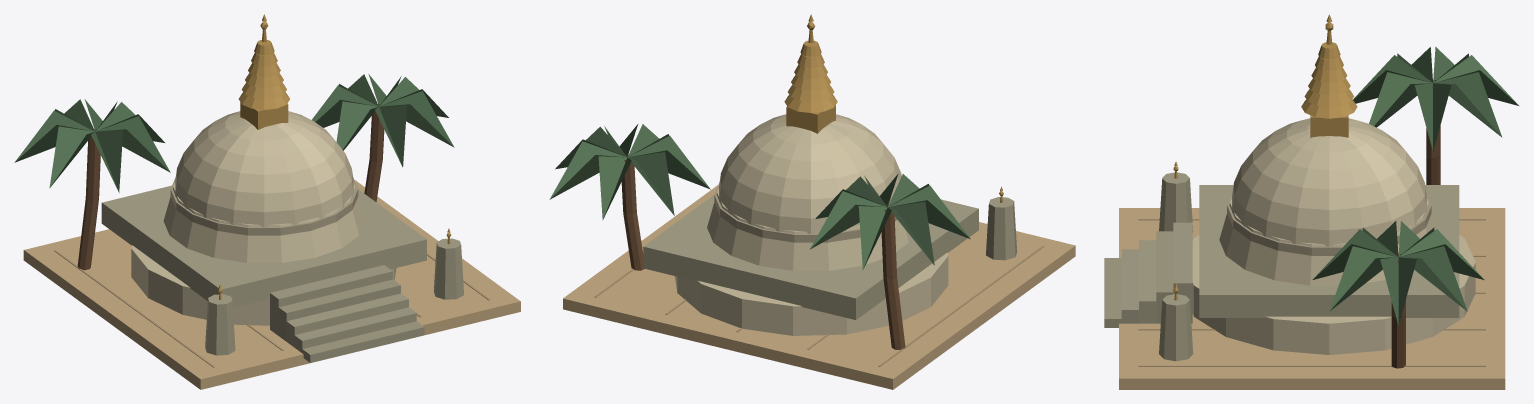
3 renders of one model, left to right at view 1: azimuth 30°, elevation 25°; view 2: azimuth 150°, elevation 25°; view 3: azimuth 270°, elevation 25°, orthographic. The views are drawn at different scales.
Visible parts, largest first — view 1: S30_狮子国 · 莲台佛塔; view 2: S30_狮子国 · 莲台佛塔; view 3: S30_狮子国 · 莲台佛塔.
Boxes of the visible parts, box(x1,y1,x2,y2) form: S30_狮子国 · 莲台佛塔: box(14, 14, 520, 389); S30_狮子国 · 莲台佛塔: box(549, 14, 1075, 389); S30_狮子国 · 莲台佛塔: box(1104, 14, 1518, 389).
Size of the model in its own units: 4.39 by 2.78 by 3.6.
